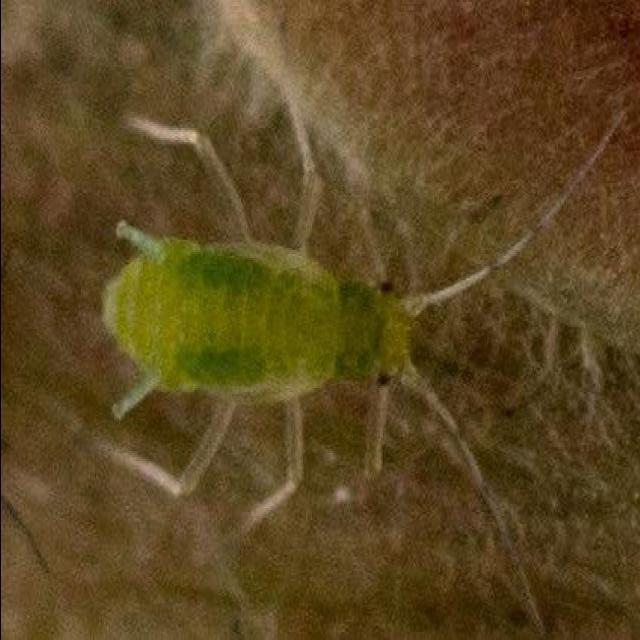aphid: (100, 146, 526, 510)
